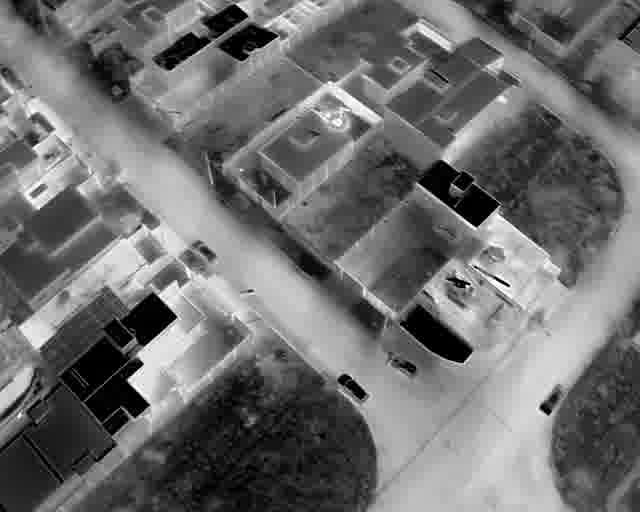car: (336, 373, 370, 405), (539, 383, 566, 416), (190, 239, 219, 265), (391, 356, 419, 379)
motorcycle: (237, 287, 255, 296)
